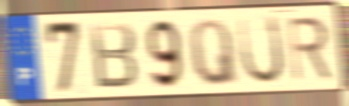7: (42, 19, 84, 98)
9: (142, 17, 186, 92)
B: (87, 20, 140, 92)
Q: (187, 17, 241, 89)
R: (284, 14, 335, 85)
U: (236, 14, 287, 87)
